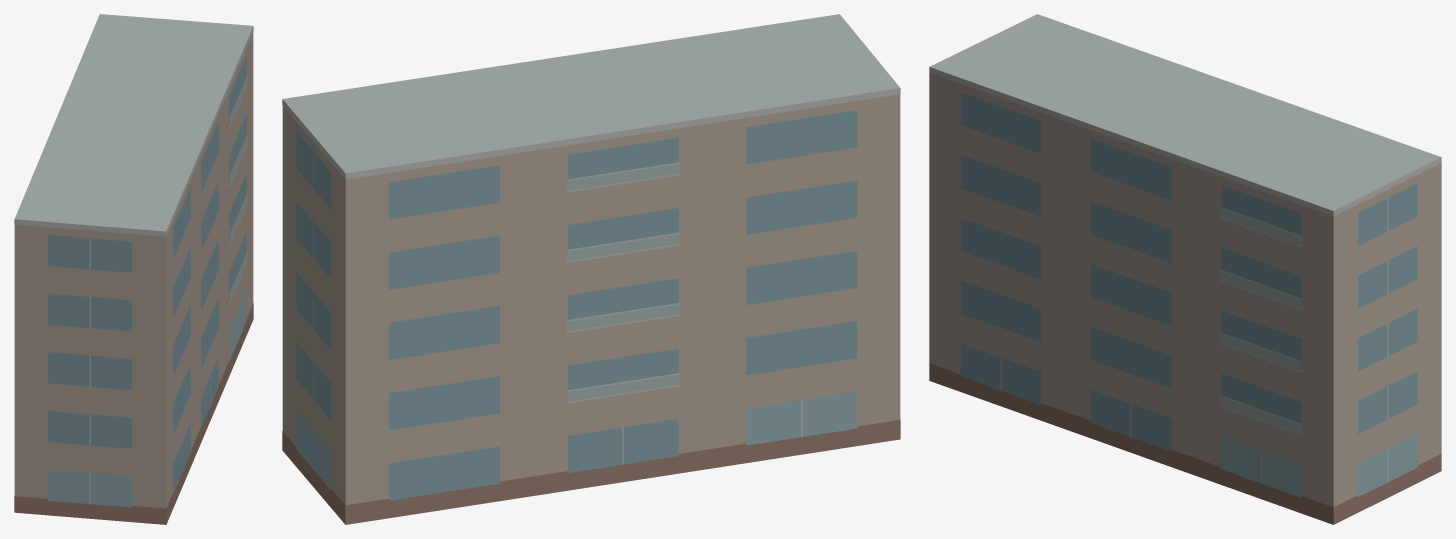
The model's file is survey-upis-32939894.glb.
The picture shows the model from 3 angles, left to right: view 1: azimuth 30°, elevation 25°; view 2: azimuth 150°, elevation 25°; view 3: azimuth 270°, elevation 25°; orthographic projection. The views are drawn at different scales.
Parts seen in each view (by area): view 1: survey-upis-32939894.tmp; view 2: survey-upis-32939894.tmp; view 3: survey-upis-32939894.tmp.
Boxes of the visible parts, box(x1,y1,x2,y2) form: survey-upis-32939894.tmp: box(14, 14, 253, 524); survey-upis-32939894.tmp: box(282, 14, 900, 524); survey-upis-32939894.tmp: box(929, 14, 1441, 524).
Size of the model in its own units: 18.32 by 13.6 by 20.13.
